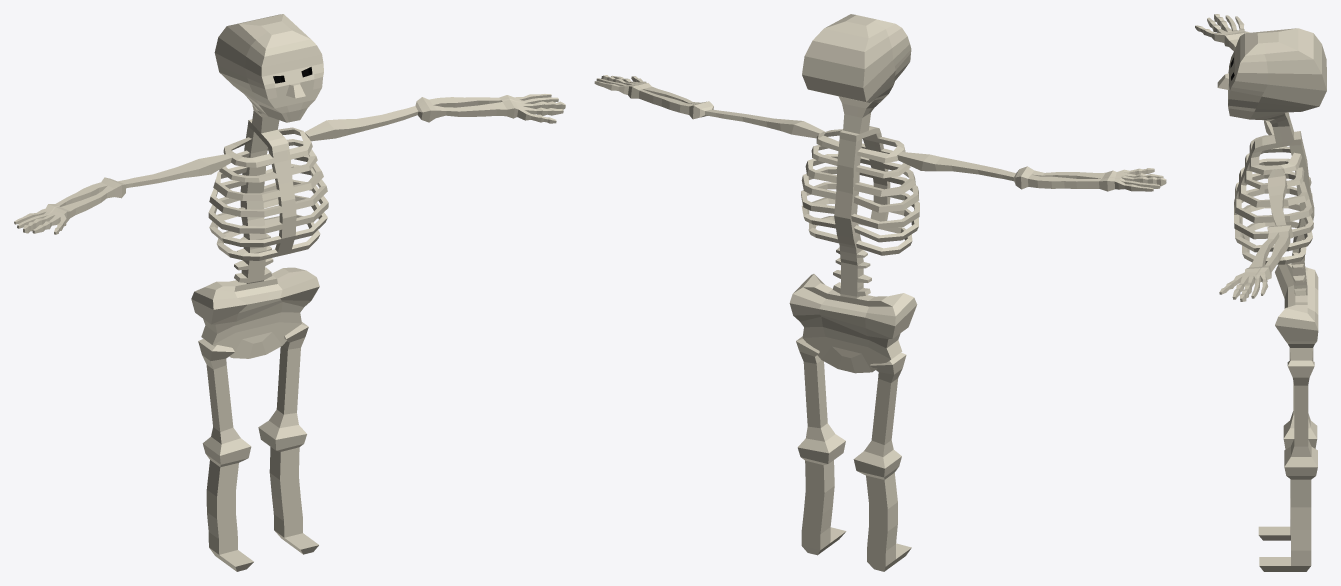
File: skelly.fbx
The picture shows the model from 3 angles, left to right: view 1: azimuth 30°, elevation 25°; view 2: azimuth 150°, elevation 25°; view 3: azimuth 270°, elevation 25°; orthographic projection. The views are drawn at different scales.
Parts seen in each view (by area): view 1: Cube, head, leg_right, leg_left, arm_right.001, arm_right; view 2: Cube, head, leg_right, leg_left, arm_right, arm_right.001; view 3: Cube, head, leg_left, arm_right.001, leg_right, arm_right.
Part boxes in pixels (<box>): Cube: <box>191,119,328,358</box>; head: <box>214,14,323,133</box>; leg_right: <box>198,339,253,571</box>; leg_left: <box>258,322,318,554</box>; arm_right.001: <box>304,94,565,141</box>; arm_right: <box>14,154,231,234</box>; Cube: <box>789,126,919,373</box>; head: <box>802,14,911,133</box>; leg_right: <box>853,352,911,571</box>; leg_left: <box>796,336,846,555</box>; arm_right: <box>897,152,1166,191</box>; arm_right.001: <box>594,75,824,138</box>; Cube: <box>1234,131,1318,360</box>; head: <box>1217,28,1326,142</box>; leg_left: <box>1259,360,1317,571</box>; arm_right.001: <box>1219,169,1293,301</box>; leg_right: <box>1258,382,1317,540</box>; arm_right: <box>1195,14,1274,135</box>.
Size of the model in its own units: 316 by 290 by 66.64.
